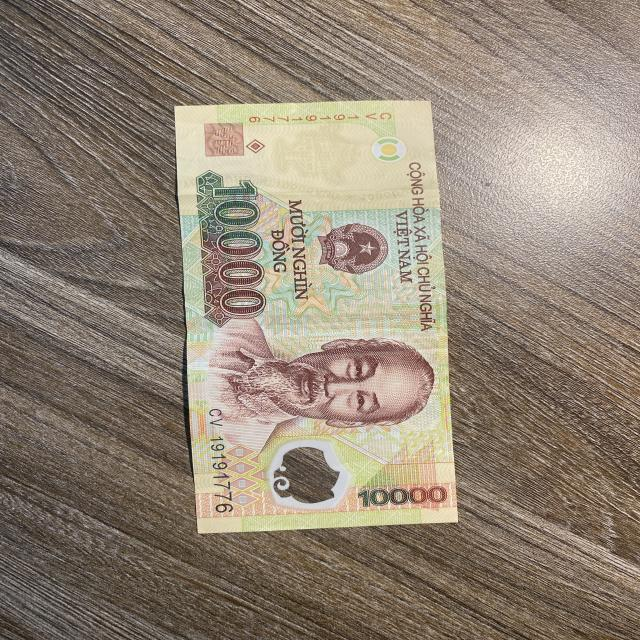10 000 VND: (176, 99, 459, 535)
